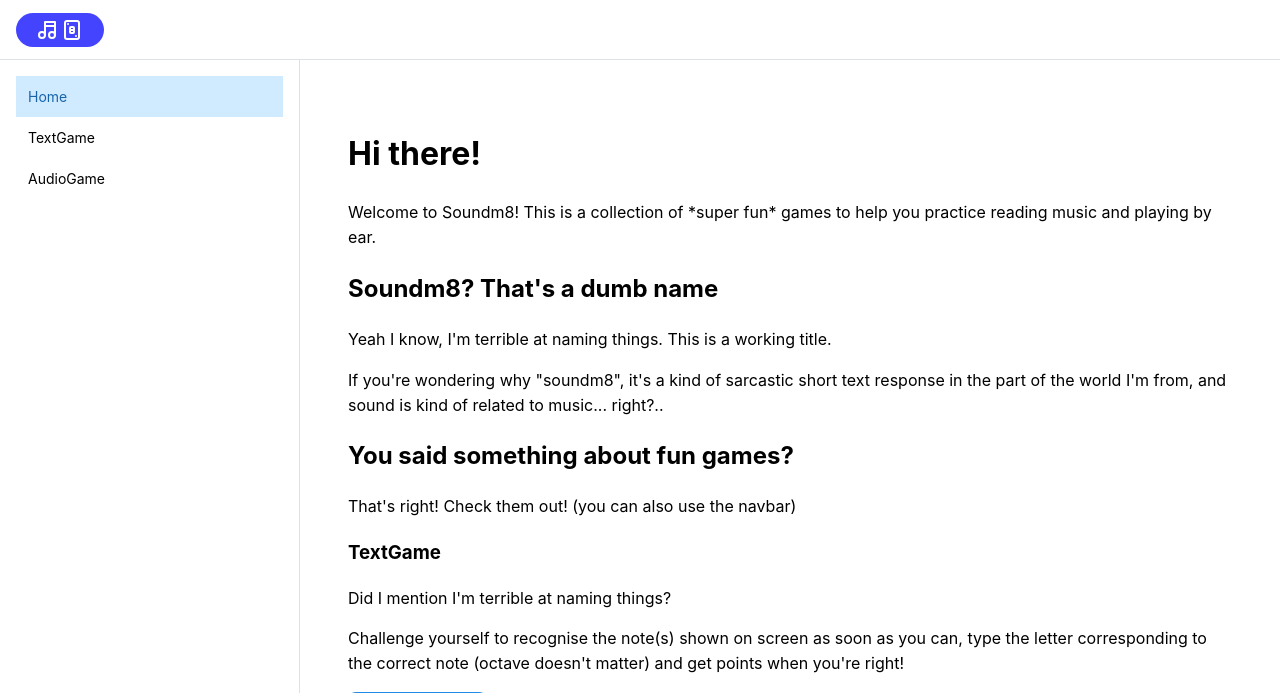
Test case: App routing › navigates to the TextGame page via the nav link
Click the link "TextGame".
click(62, 137)  # box [28,129,95,146]
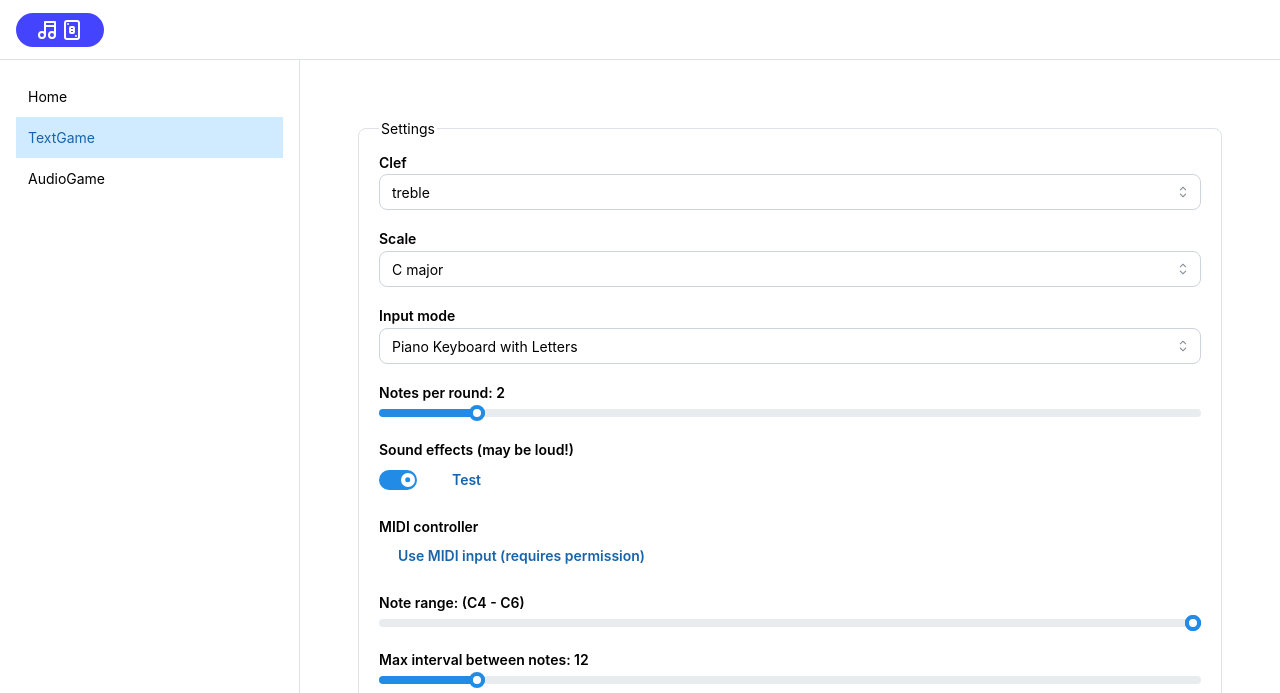
Expected: the text "Settings" is shown, [379,118,437,140]
